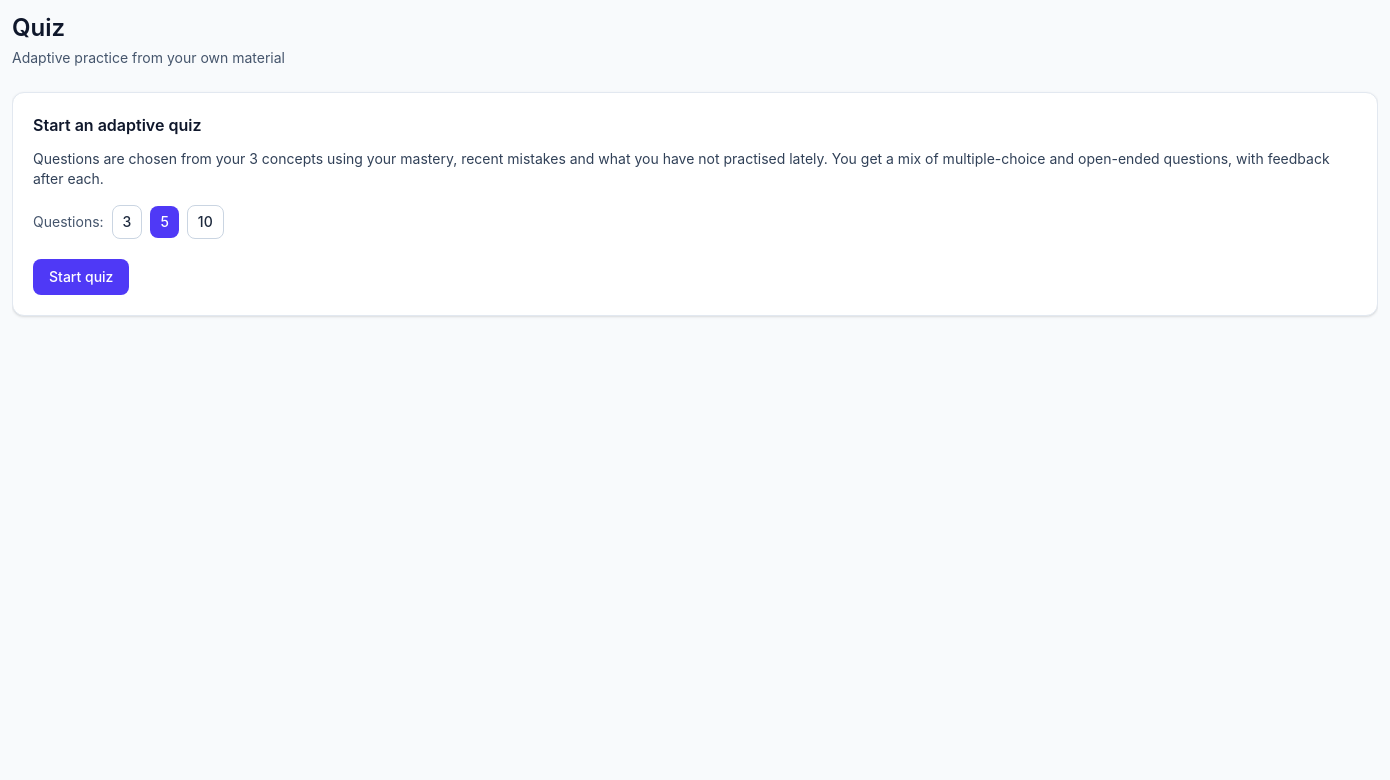
Test: QuizPage › shows why a submission failed
Step 1. Click the button "Start quiz" → (81, 277), box [33,259,129,295]
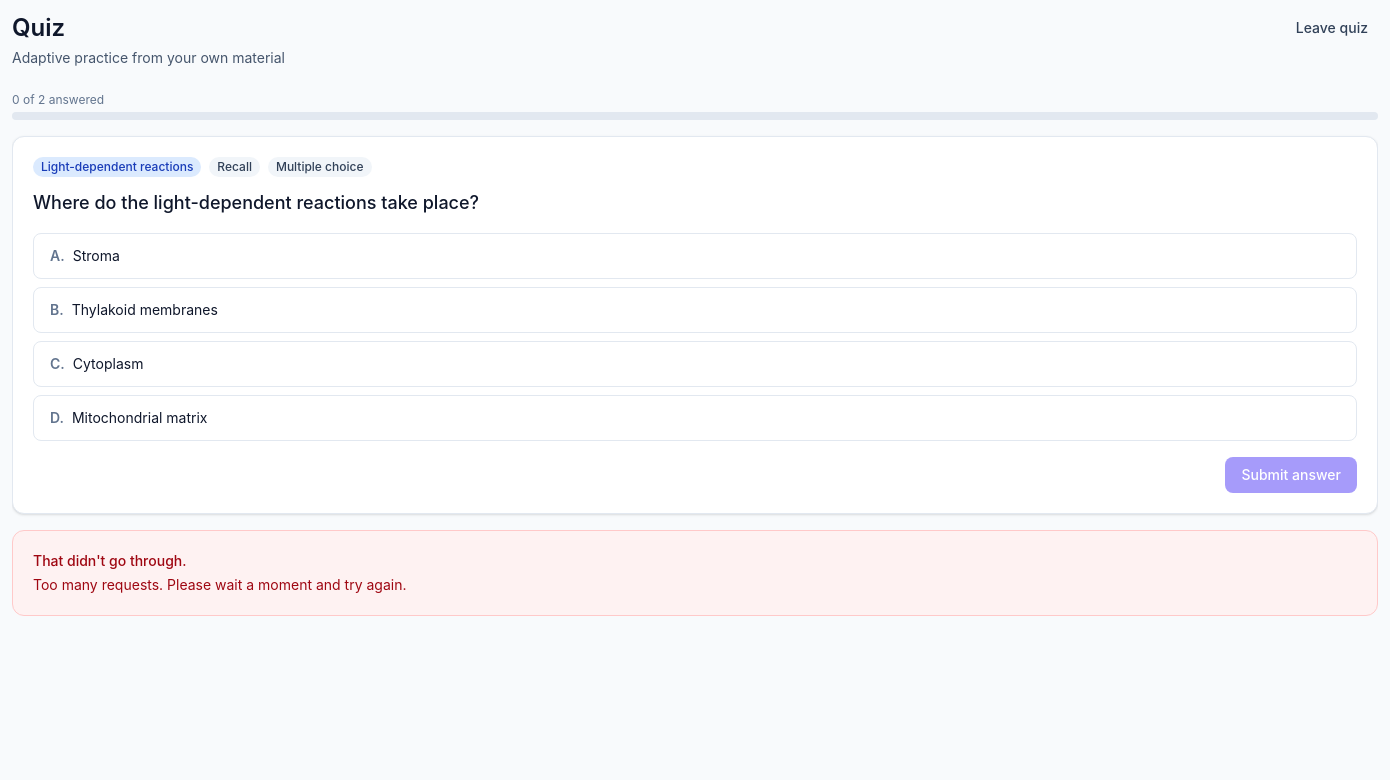
Expected: the message shows "That didn't go through.", [33,552,186,569]
Expected: the message shows "Please wait a moment", [33,576,406,593]
Expected: the text "Where do the light-dependent reactions take place?" is shown, [33,192,479,213]
